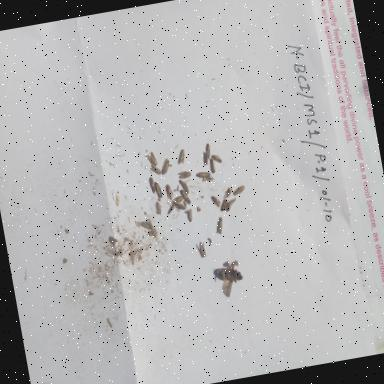pbw: (160, 155, 174, 176), (194, 167, 213, 182), (162, 182, 176, 202), (174, 146, 188, 166), (145, 150, 160, 168), (138, 218, 154, 234), (210, 150, 226, 166), (148, 164, 162, 182), (180, 188, 193, 207), (214, 216, 226, 236), (153, 198, 165, 218), (176, 168, 193, 182), (231, 184, 247, 198), (148, 176, 158, 197), (225, 198, 238, 214), (222, 183, 234, 200), (154, 180, 164, 200), (197, 240, 207, 260), (164, 202, 178, 216), (210, 194, 222, 210), (178, 178, 190, 194), (208, 156, 218, 175), (203, 141, 213, 160), (174, 200, 188, 213), (113, 190, 123, 207), (219, 198, 230, 213), (200, 174, 216, 184), (202, 150, 211, 166), (172, 196, 185, 206), (187, 208, 195, 223)
